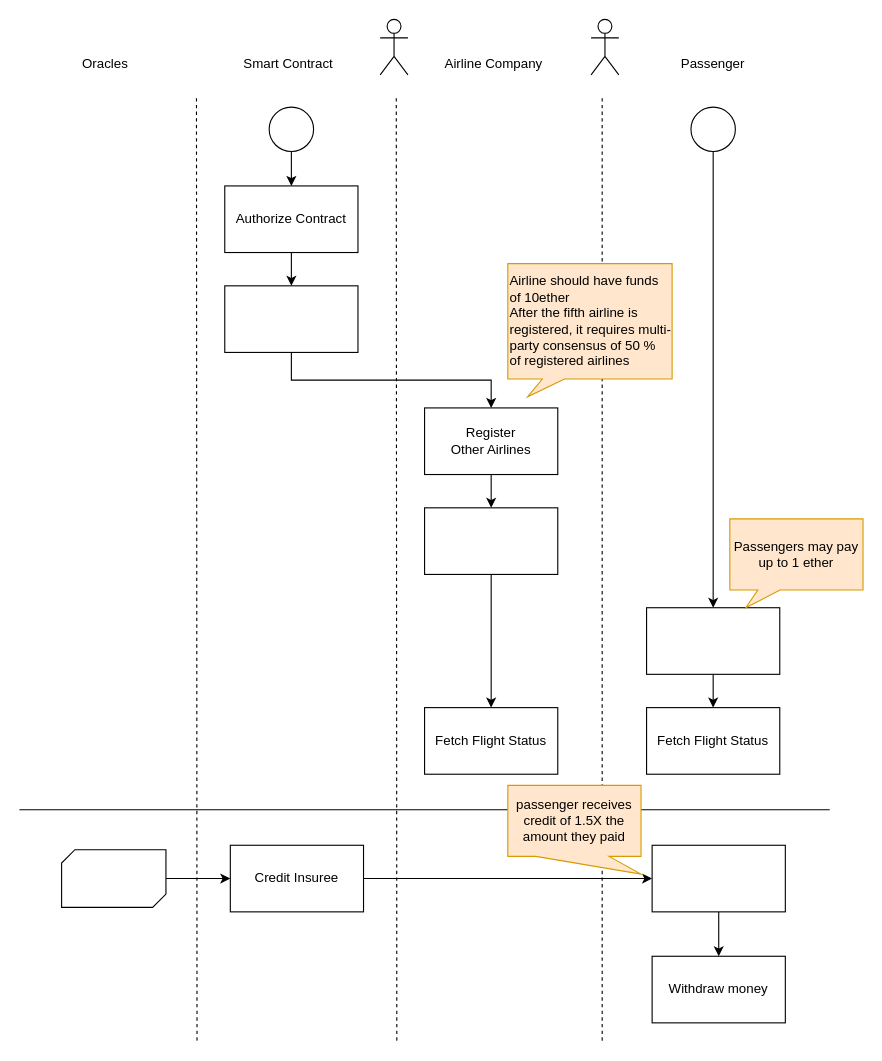
This 882x1061 diagram has some shape labels left out. Each missing label, with the centre of its shape:
Flight Delay Notice: (113,878)
Purchase Flight Insurance: (712,640)
Receive Insurance Credit: (718,878)
Register First Airline: (291,318)
Register Flights: (490,540)
